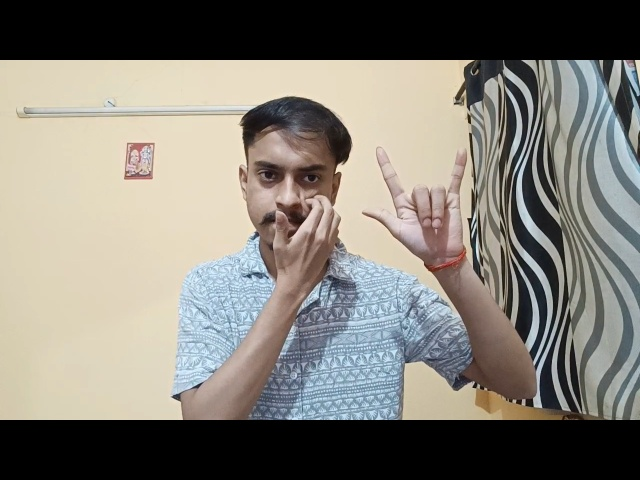ILoveyou: (361, 134, 477, 276)
